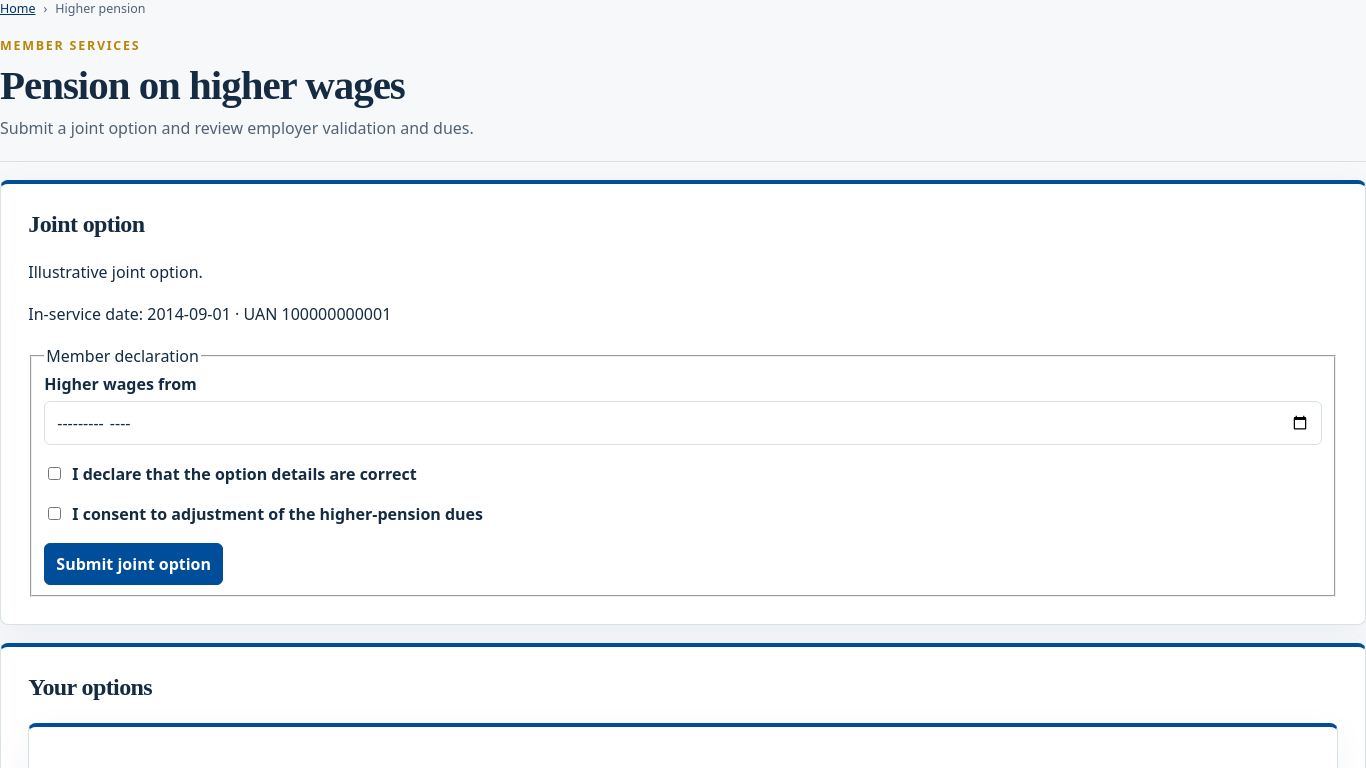
Test: shows detail and errors from a 422 higher-pension problem
The image size is (1366, 768).
expect the element that starts with "Member declaration" is enabled: met, box [30,345,1336,597]
Step 1. Type "2012-01" into the field labelled "Higher wages from" → x=683, y=423, box [44,401,1322,445]
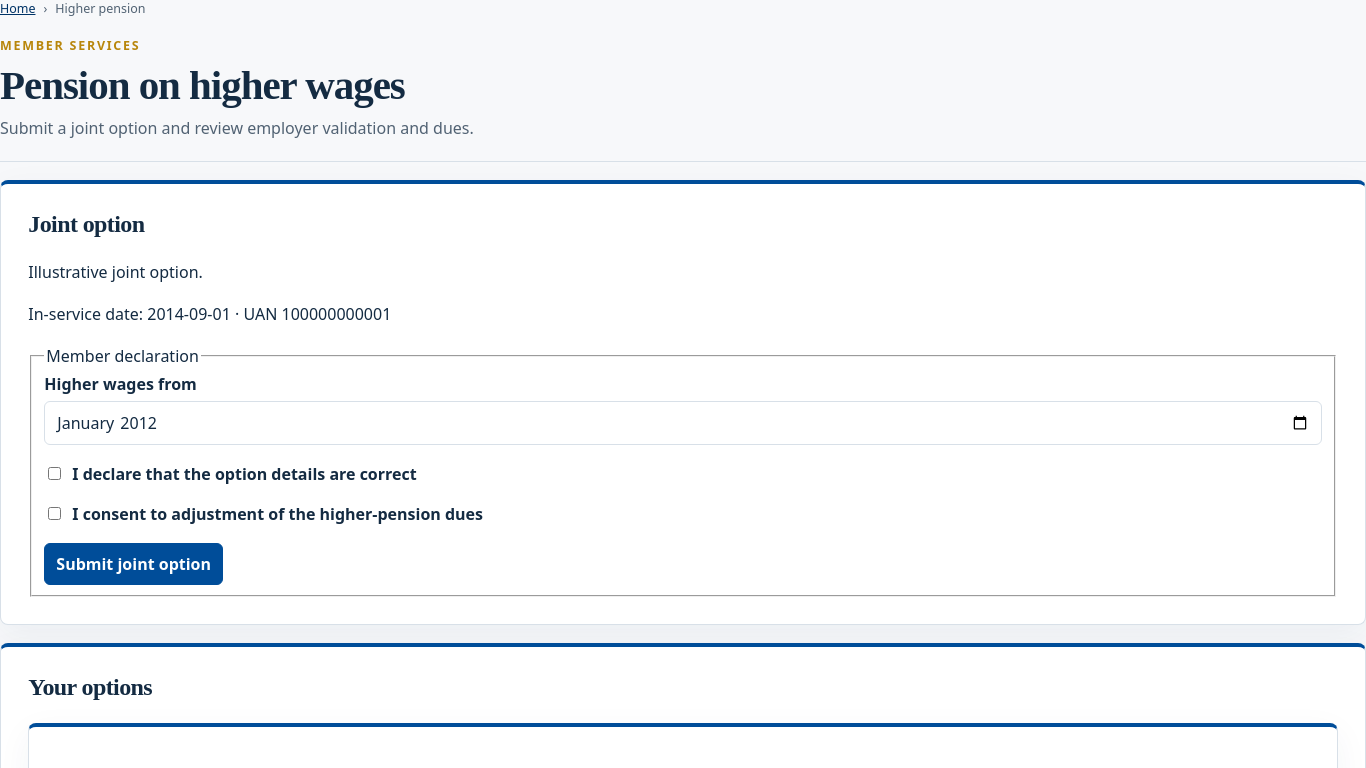
Step 2. Click the checkbox labelled "I declare that the option details are correct" → x=55, y=474, box [48,467,61,480]
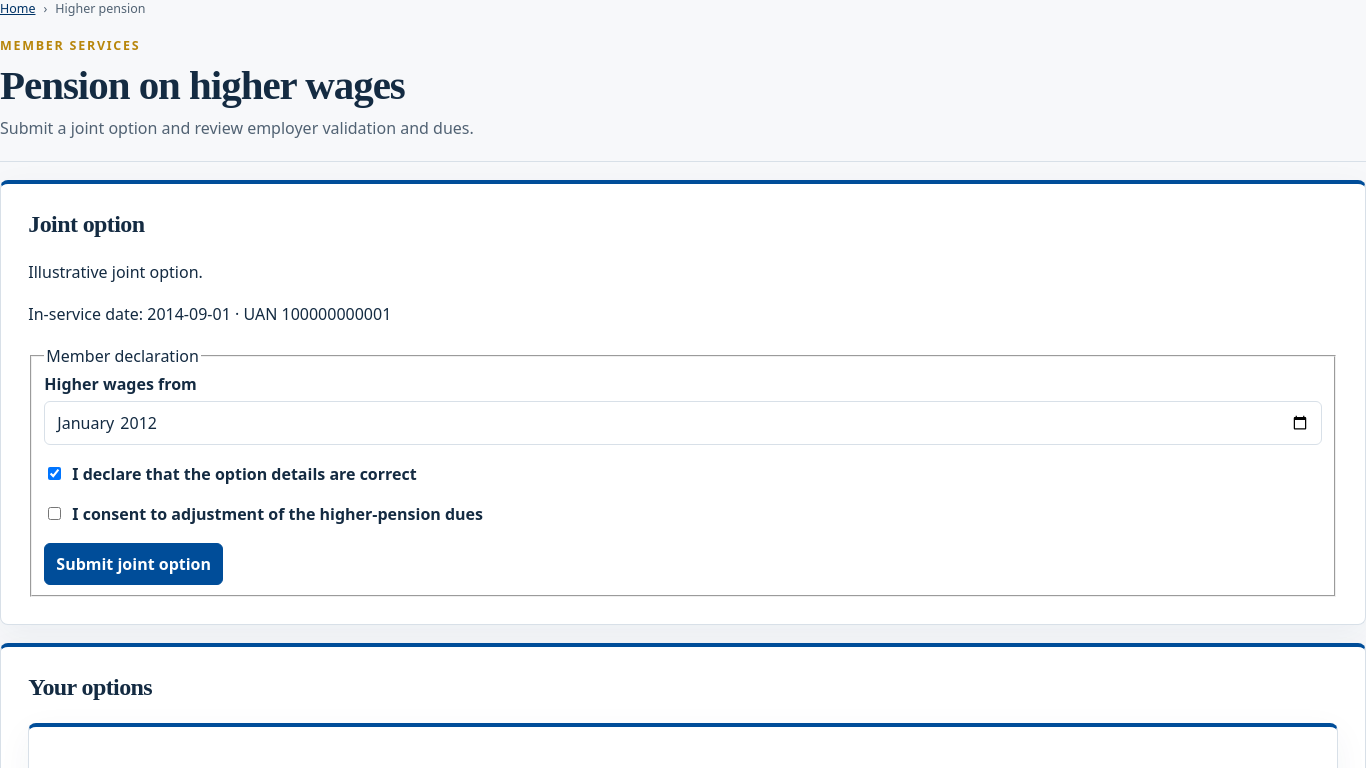
Step 3. Click the checkbox labelled "I consent to adjustment of the higher-pension dues" → x=55, y=514, box [48,507,61,520]
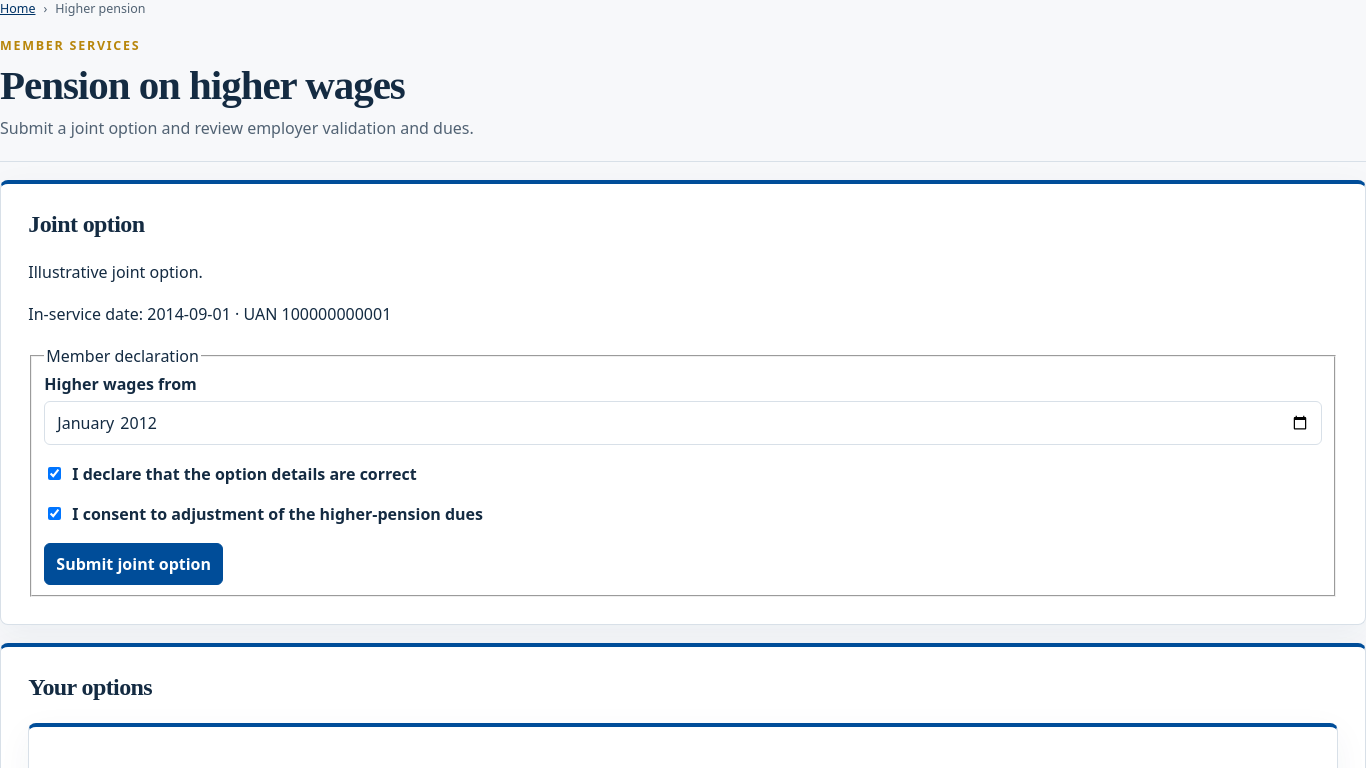
Step 4. Submit the form named "Submit higher-pension option", box [28,345,1338,597]
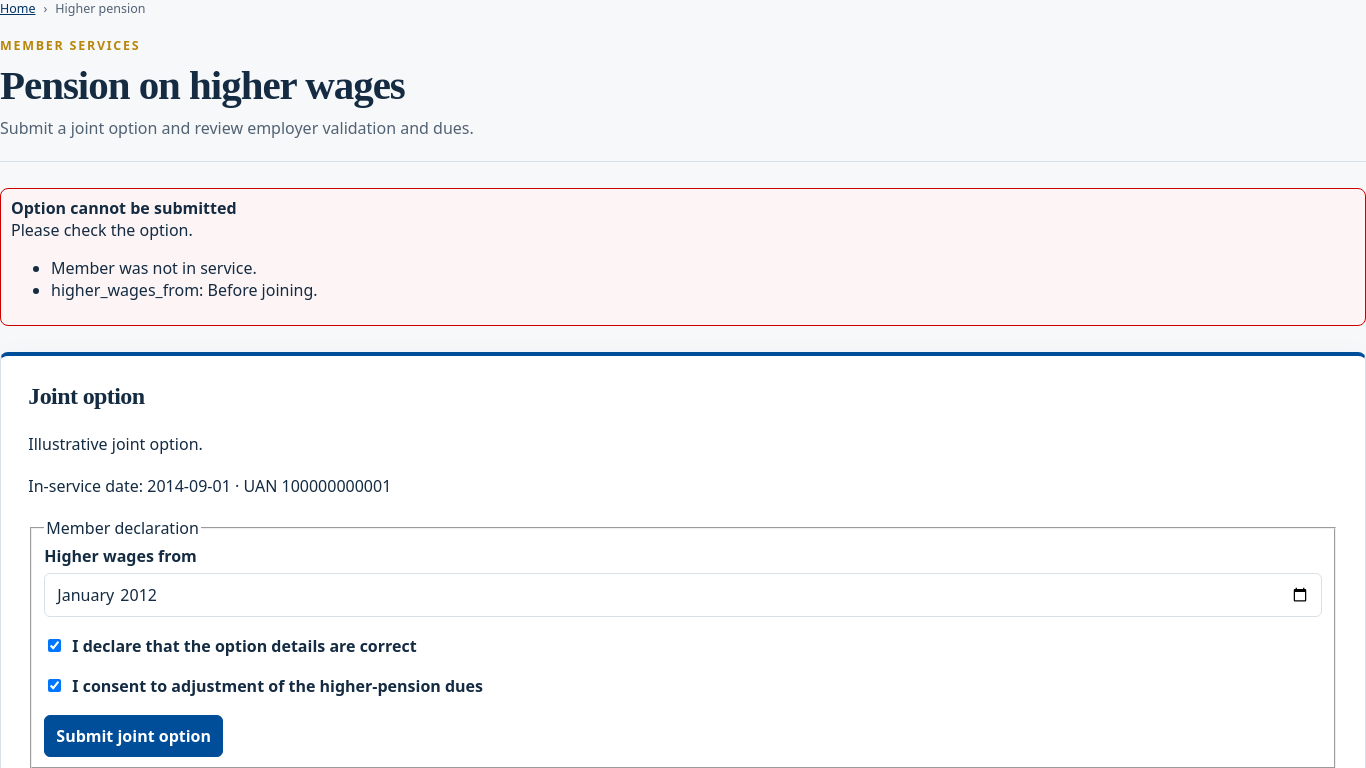
expect the text "Please check the option." is shown: met, box [11,219,193,241]
expect the list item "Member was not in service." is shown: met, box [51,257,257,279]
expect the list item "higher_wages_from: Before joining." is shown: met, box [51,279,318,301]
